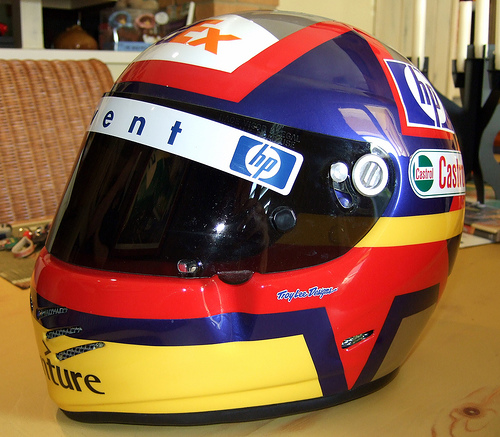helmet: (71, 16, 441, 382)
